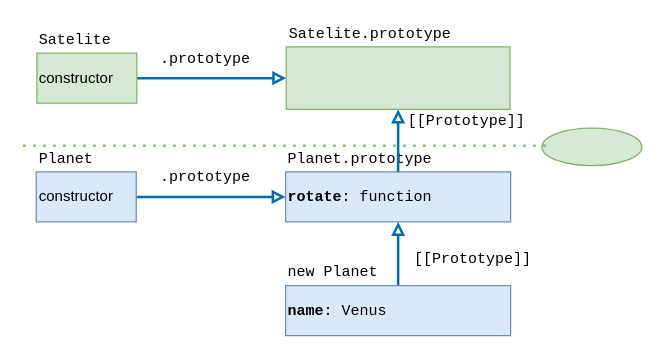
This 664x358 diagram has some shape labels left out. Each missing label, with the centre of its shape:
"constructor: Satelite beAttracted : function explode: function" belongs at point 397,77.
"Extends" belongs at point 591,146.
